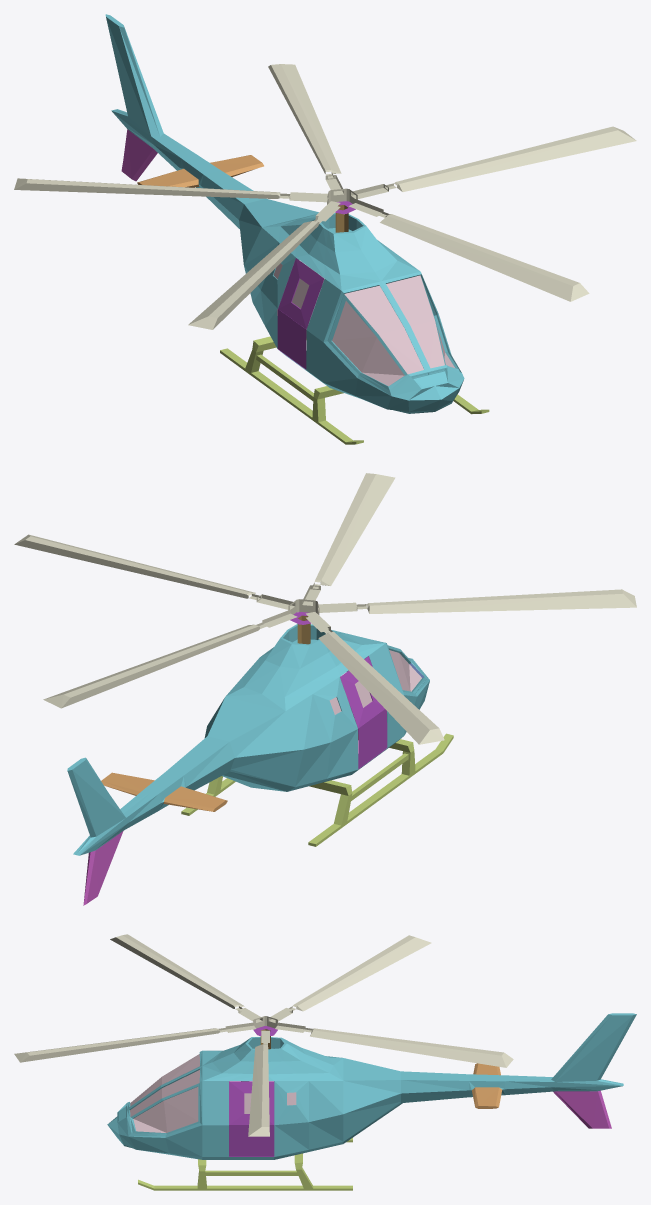
3 renders of one model, top to bottom at view 1: azimuth 30°, elevation 25°; view 2: azimuth 150°, elevation 25°; view 3: azimuth 270°, elevation 25°, orthographic. The views are drawn at different scales.
Visible parts, largest first — view 1: pred_mesh_gc.ply; view 2: pred_mesh_gc.ply; view 3: pred_mesh_gc.ply.
Part boxes in pixels (x1,y1,x2,y2): pred_mesh_gc.ply: (14, 14, 636, 444); pred_mesh_gc.ply: (14, 473, 636, 905); pred_mesh_gc.ply: (14, 934, 636, 1190).
Size of the model in its own units: 0.5966 by 0.2068 by 0.7754.
